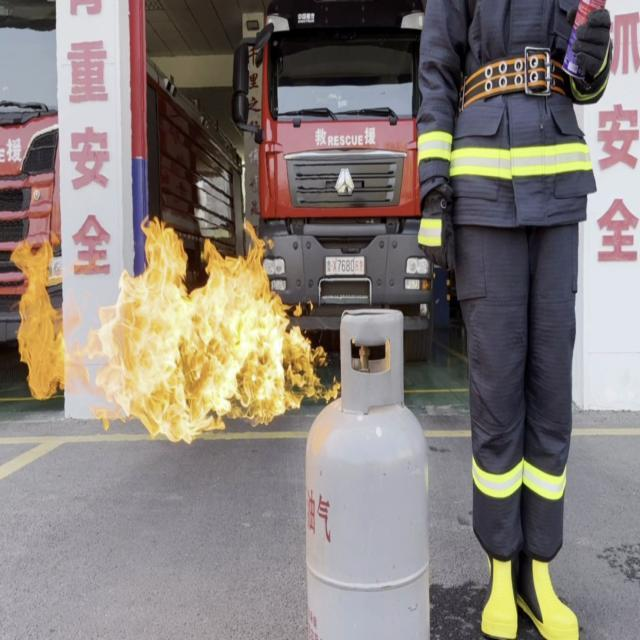Fire: (13, 219, 339, 446)
